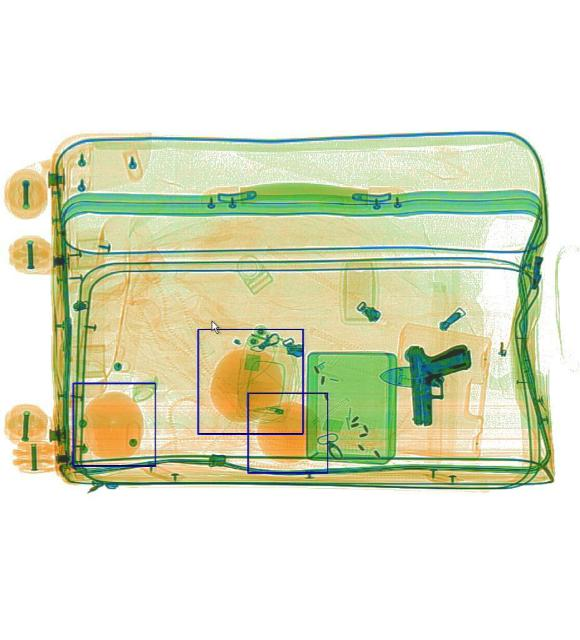Gun: (408, 342, 475, 423)
